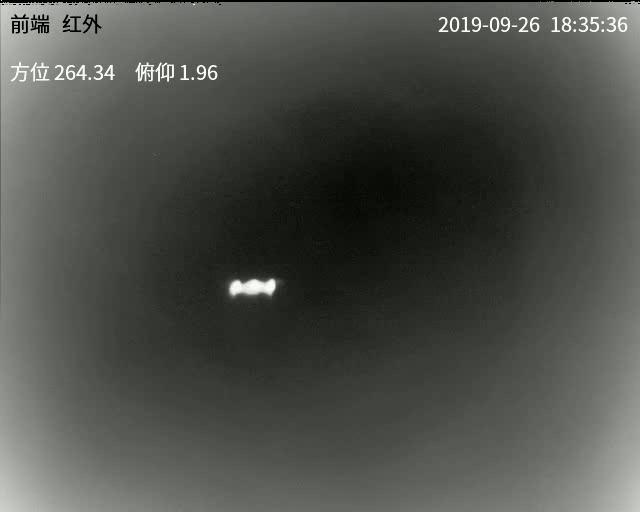DRONE: (227, 276, 277, 297)
